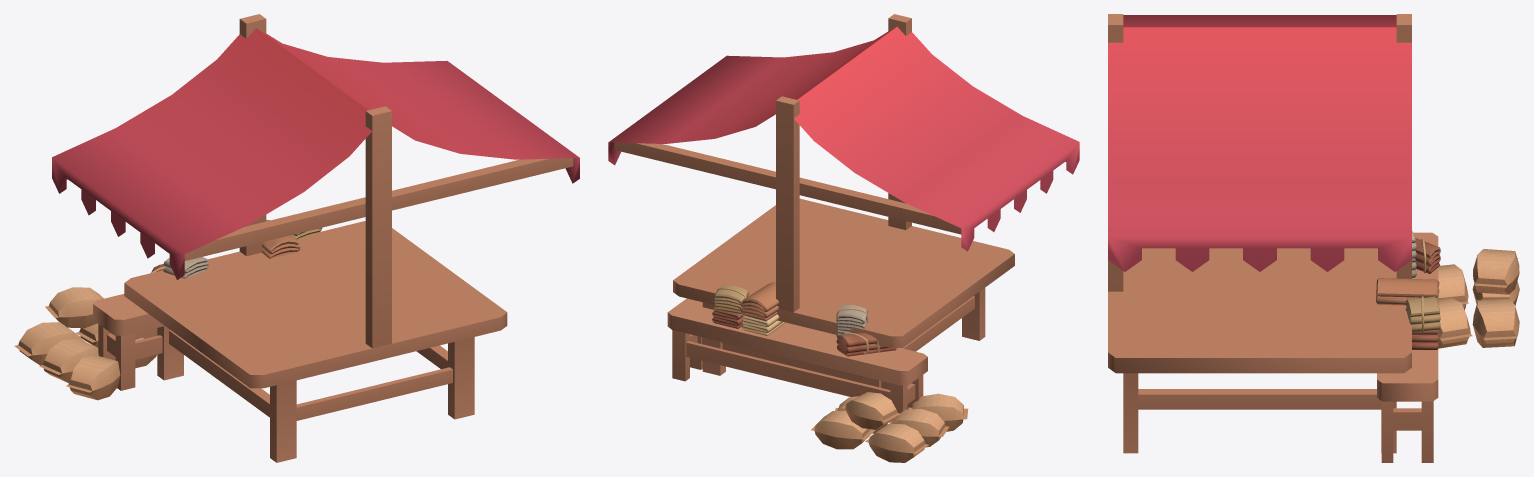
File: london_stall_wool.glb
3 renders of one model, left to right at view 1: azimuth 30°, elevation 25°; view 2: azimuth 150°, elevation 25°; view 3: azimuth 270°, elevation 25°, orthographic. The views are drawn at different scales.
Visible parts, largest first — view 1: Wool stall timber frame red canopy, Wooden cloth counter, Wool bale sack 4, Wool bale top, Wool bale sack 0, Wool bale sack 2, Folded cloth on counter right, Folded cloth on counter left; view 2: Wool stall timber frame red canopy, Wooden cloth counter, Folded cloth on counter right, Folded cloth on counter left, Wool bale sack 0, Wool bale sack 1, Wool bale top, Wool bale sack 4, Wool bale sack 2; view 3: Wool stall timber frame red canopy, Wooden cloth counter, Folded cloth on counter right, Wool bale sack 1, Wool bale top, Wool bale sack 3, Wool bale sack 2, Folded cloth on counter left.
Boxes of the visible parts, box(x1,y1,x2,y2) form: Wool stall timber frame red canopy: box(52, 14, 579, 462); Wooden cloth counter: box(93, 294, 164, 390); Wool bale sack 4: box(66, 355, 120, 400); Wool bale top: box(45, 287, 103, 328); Wool bale sack 0: box(14, 322, 85, 365); Wool bale sack 2: box(39, 338, 98, 383); Folded cloth on counter right: box(262, 219, 322, 258); Folded cloth on counter left: box(151, 257, 208, 278); Wool stall timber frame red canopy: box(608, 14, 1079, 387); Wooden cloth counter: box(667, 298, 927, 413); Folded cloth on counter right: box(712, 282, 785, 336); Folded cloth on counter left: box(836, 305, 896, 356); Wool bale sack 0: box(865, 423, 928, 462); Wool bale sack 1: box(811, 410, 875, 449); Wool bale top: box(842, 392, 900, 429); Wool bale sack 4: box(908, 393, 968, 431); Wool bale sack 2: box(890, 409, 949, 447); Wool stall timber frame red canopy: box(1108, 14, 1411, 453); Wooden cloth counter: box(1377, 232, 1438, 462); Folded cloth on counter right: box(1376, 278, 1440, 349); Wool bale sack 1: box(1472, 298, 1519, 347); Wool bale top: box(1473, 249, 1519, 294); Wool bale sack 3: box(1438, 297, 1472, 348); Wool bale sack 2: box(1438, 264, 1468, 310); Folded cloth on counter left: box(1412, 231, 1440, 277).
Size of the model in its own units: 6.2 by 4.95 by 4.88.
Materials: 5 (5 with a texture image).
